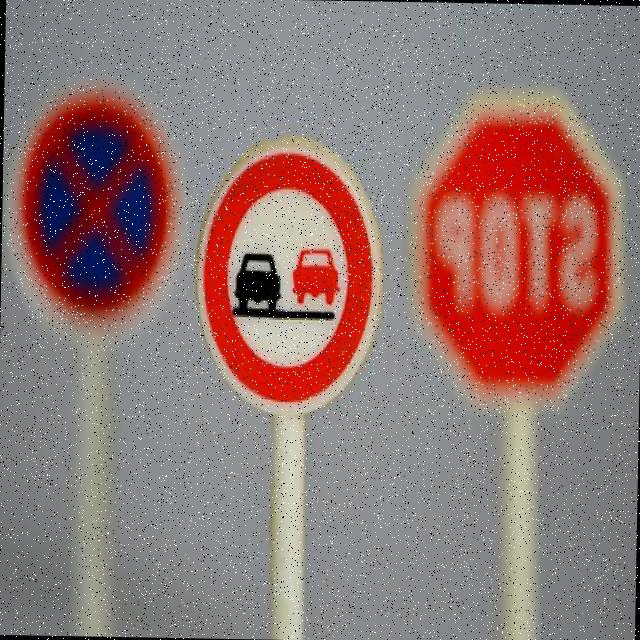no_passing: (194, 133, 383, 430)
